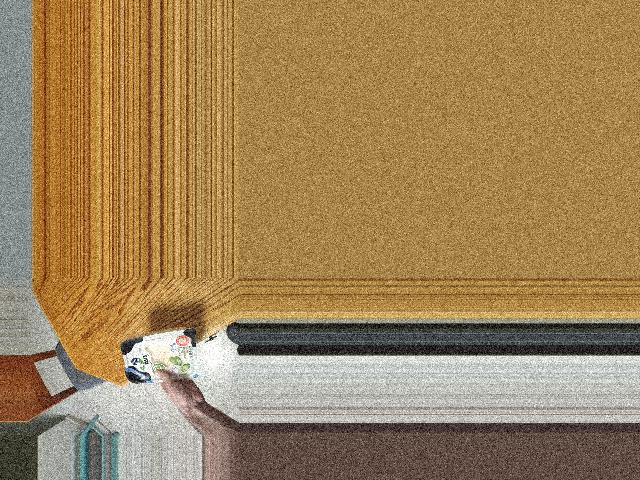cheese: (122, 337, 192, 381)
